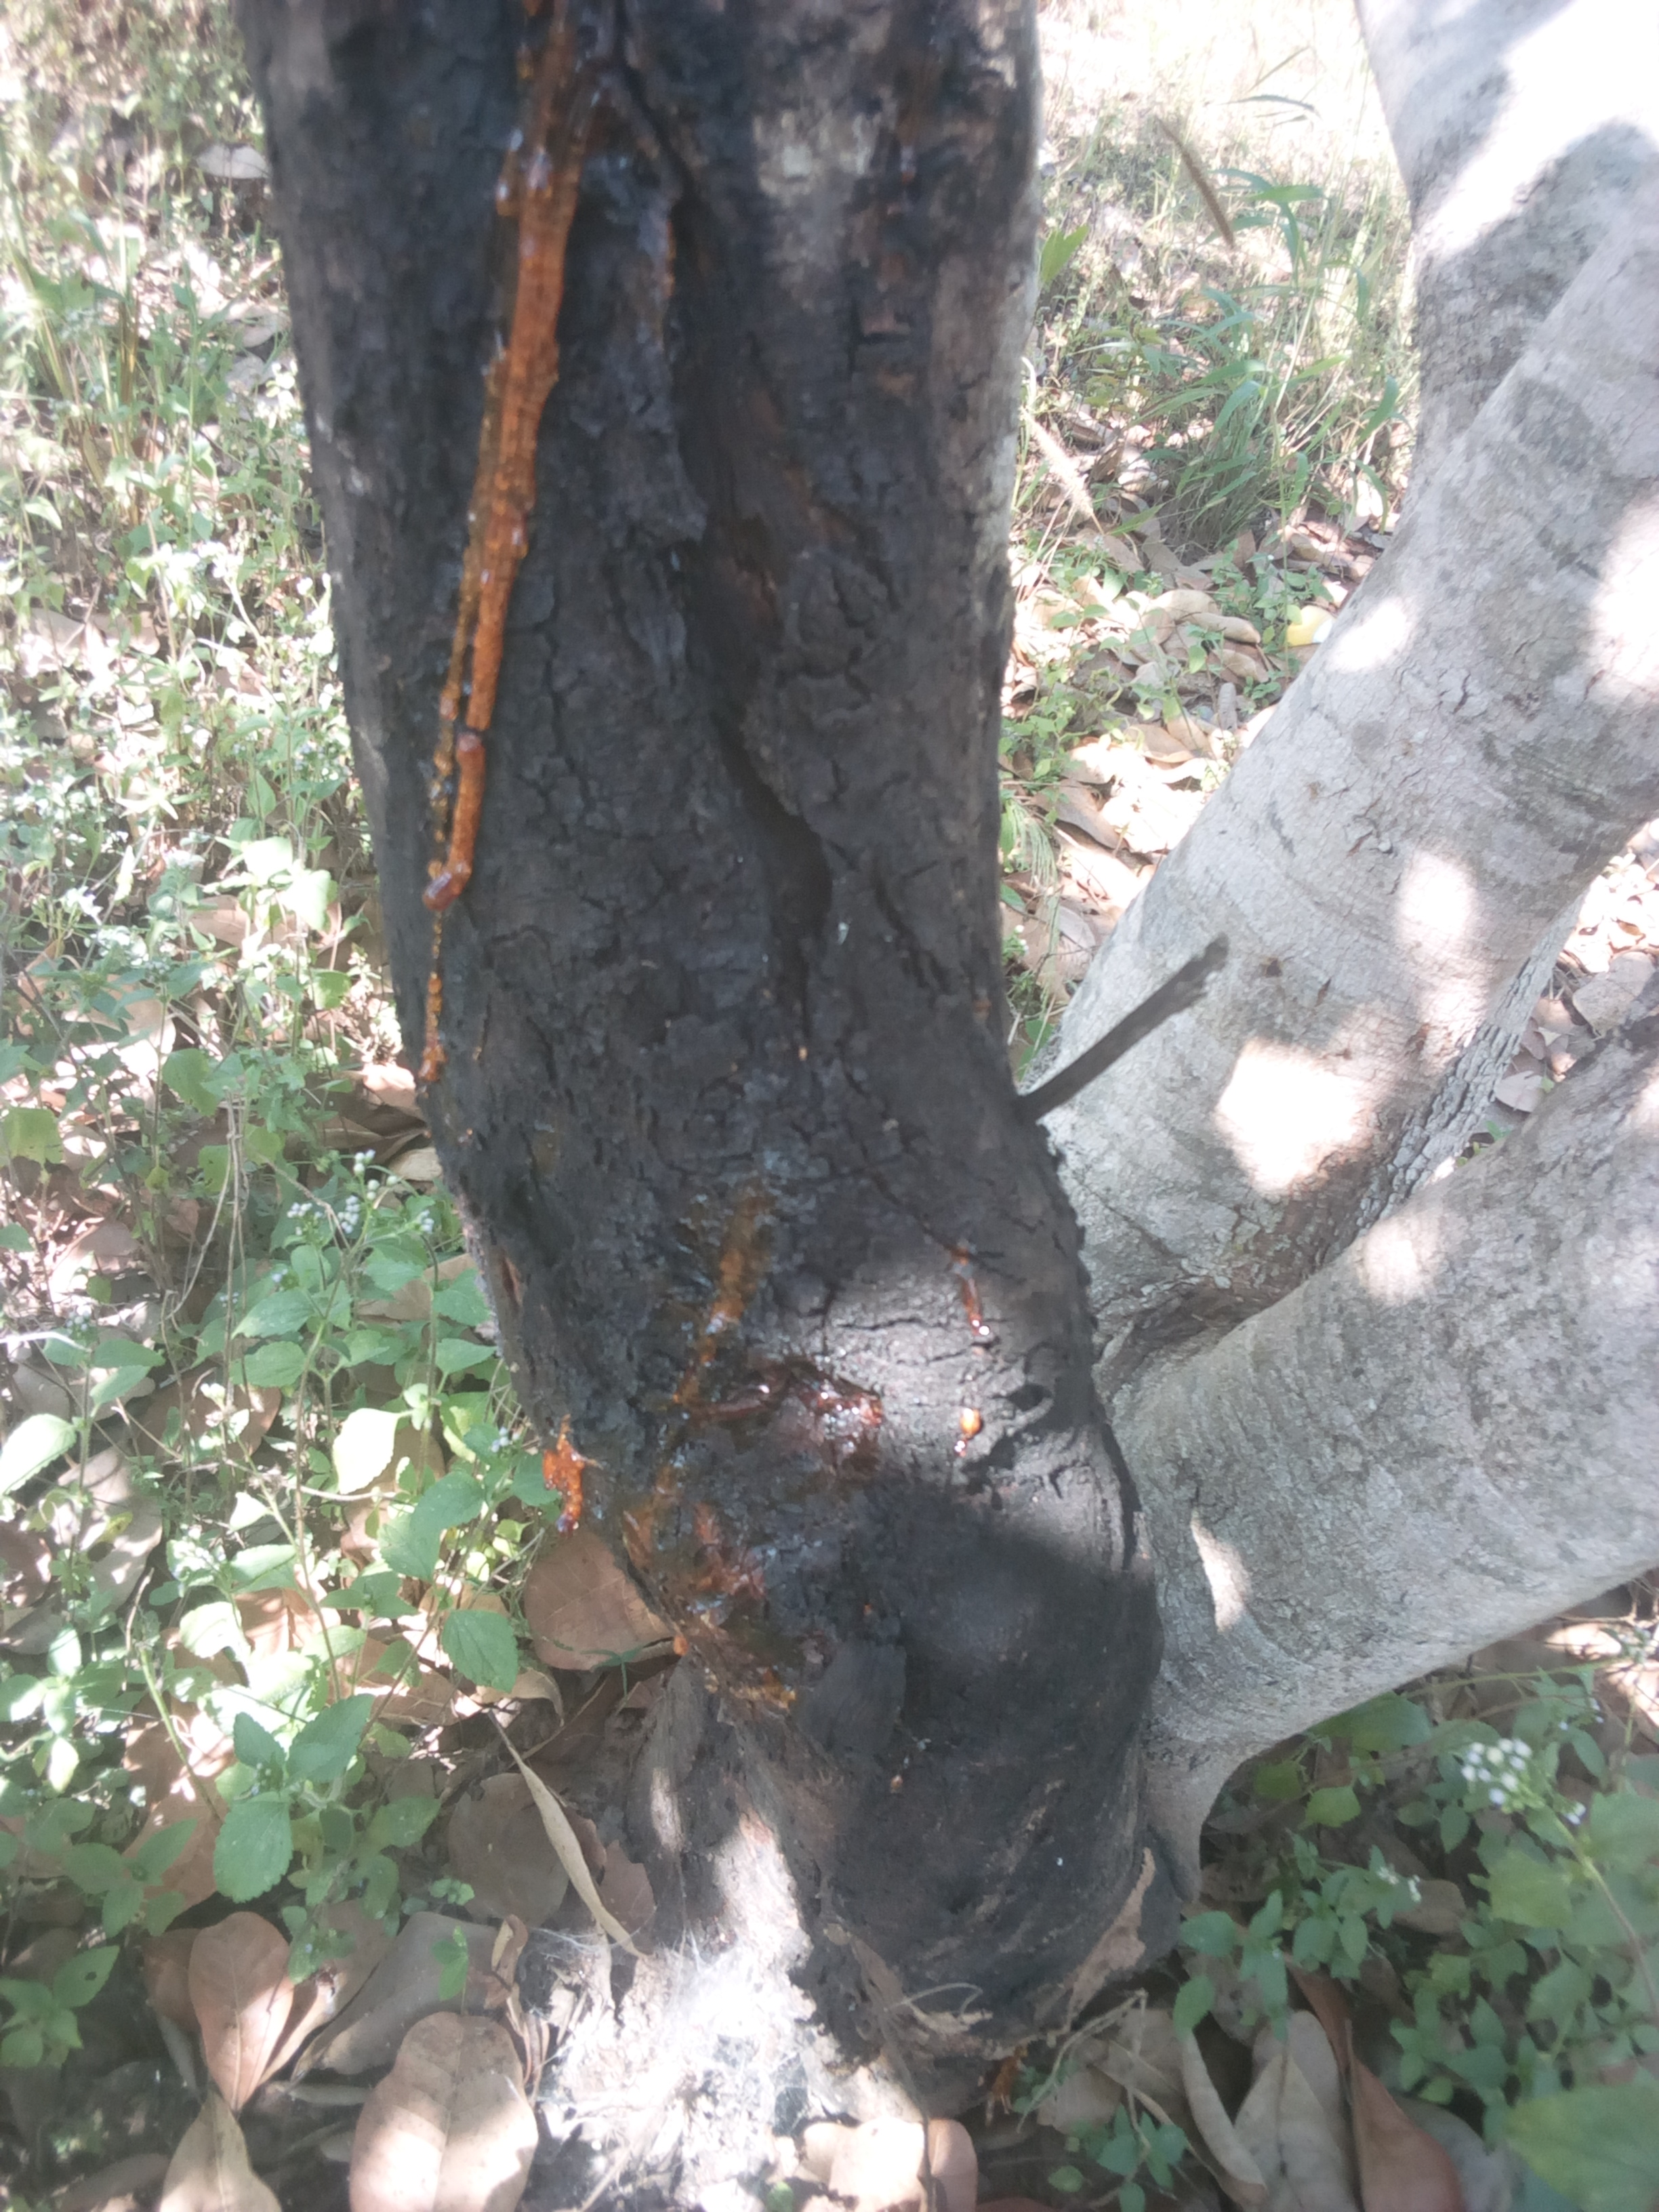Mecocorynus longiceps: (406, 45, 687, 1038), (566, 1165, 906, 1658)
